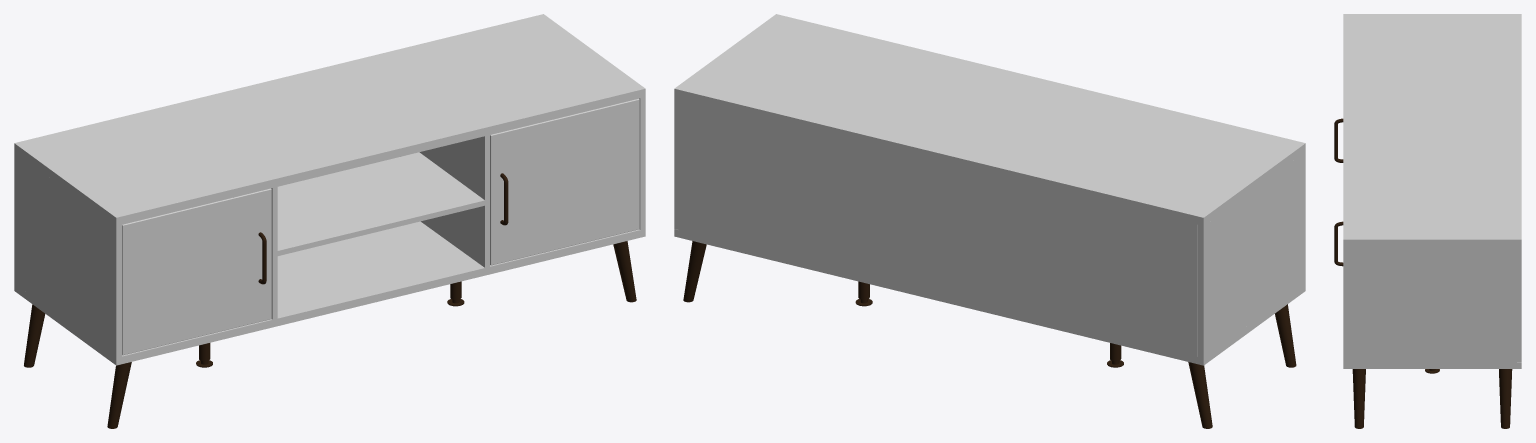
File: Top living_ centro de entretenimiento mesa minimalista cajonera .fbx
The picture shows the model from 3 angles, left to right: view 1: azimuth 30°, elevation 25°; view 2: azimuth 150°, elevation 25°; view 3: azimuth 270°, elevation 25°; orthographic projection. The views are drawn at different scales.
Visible parts, largest first — view 1: Cube, Cylinder, Cylinder.001; view 2: Cube, Cylinder, Cylinder.001; view 3: Cube, Cylinder, BézierCurve.
Boxes of the visible parts, box(x1,y1,x2,y2) form: Cube: box(14, 14, 645, 365); Cylinder: box(24, 241, 636, 428); Cylinder.001: box(196, 281, 464, 367); Cube: box(674, 14, 1305, 365); Cylinder: box(683, 241, 1296, 428); Cylinder.001: box(855, 281, 1123, 367); Cube: box(1343, 14, 1521, 368); Cylinder: box(1352, 369, 1512, 428); BézierCurve: box(1334, 118, 1343, 266).
Bounding box in the file's own units: 120 × 47.01 × 42.01.
